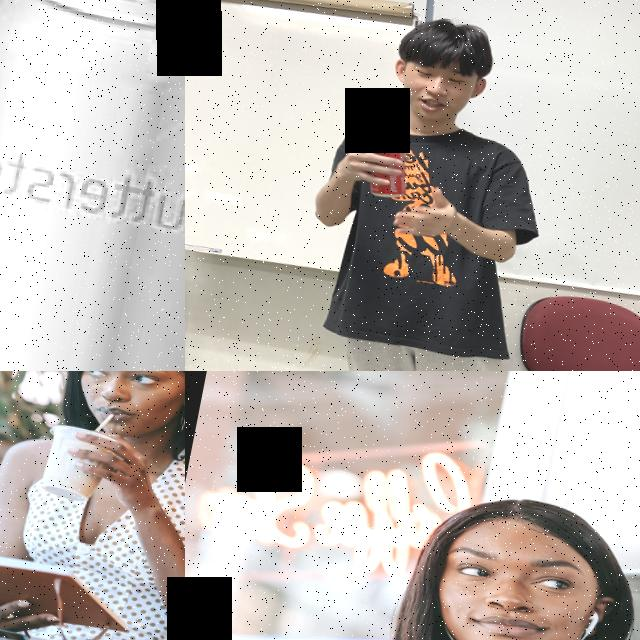can: (0, 0, 185, 371), (352, 118, 420, 203)
cup: (36, 421, 123, 508)
